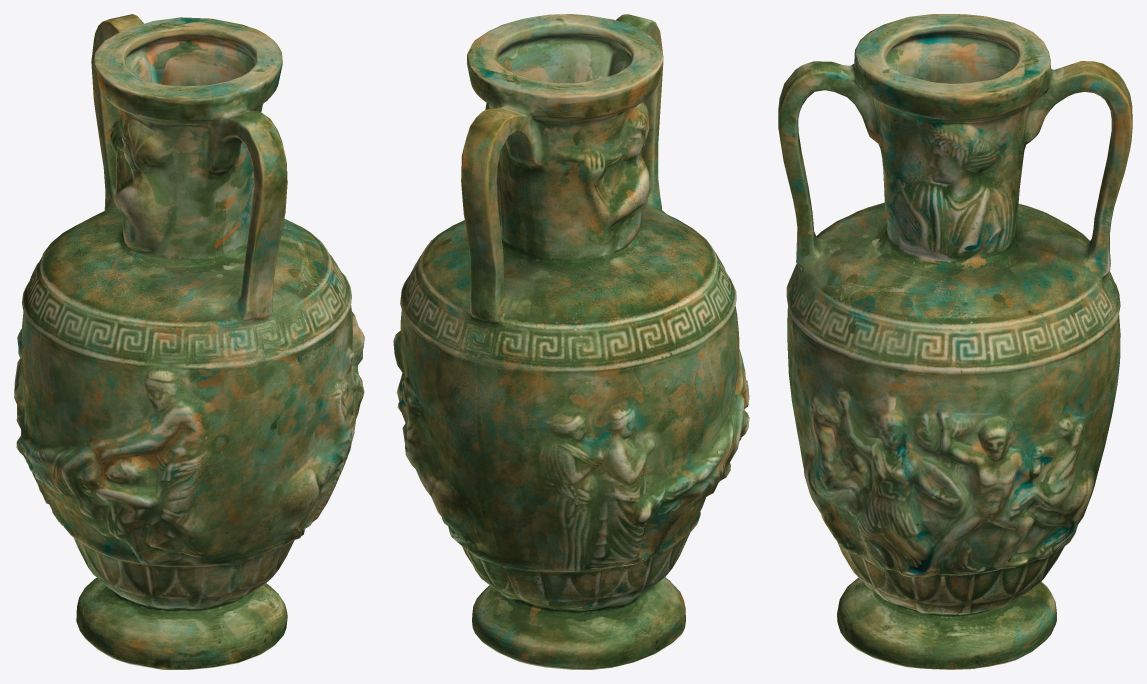
The model's file is ancient_greece_potvase_3d_scan.glb.
3 views of the same model, side by side, from view 1: azimuth 30°, elevation 25°; view 2: azimuth 150°, elevation 25°; view 3: azimuth 270°, elevation 25° (orthographic). The views are drawn at different scales.
Visible parts, largest first — view 1: Edit; view 2: Edit; view 3: Edit.
Boxes of the visible parts, bbox=[...] form: Edit: bbox=[14, 14, 364, 669]; Edit: bbox=[393, 14, 749, 669]; Edit: bbox=[778, 14, 1132, 669].
Size of the model in its own units: 0.122 by 0.2211 by 0.1227.
Materials: 1 (1 with a texture image).
